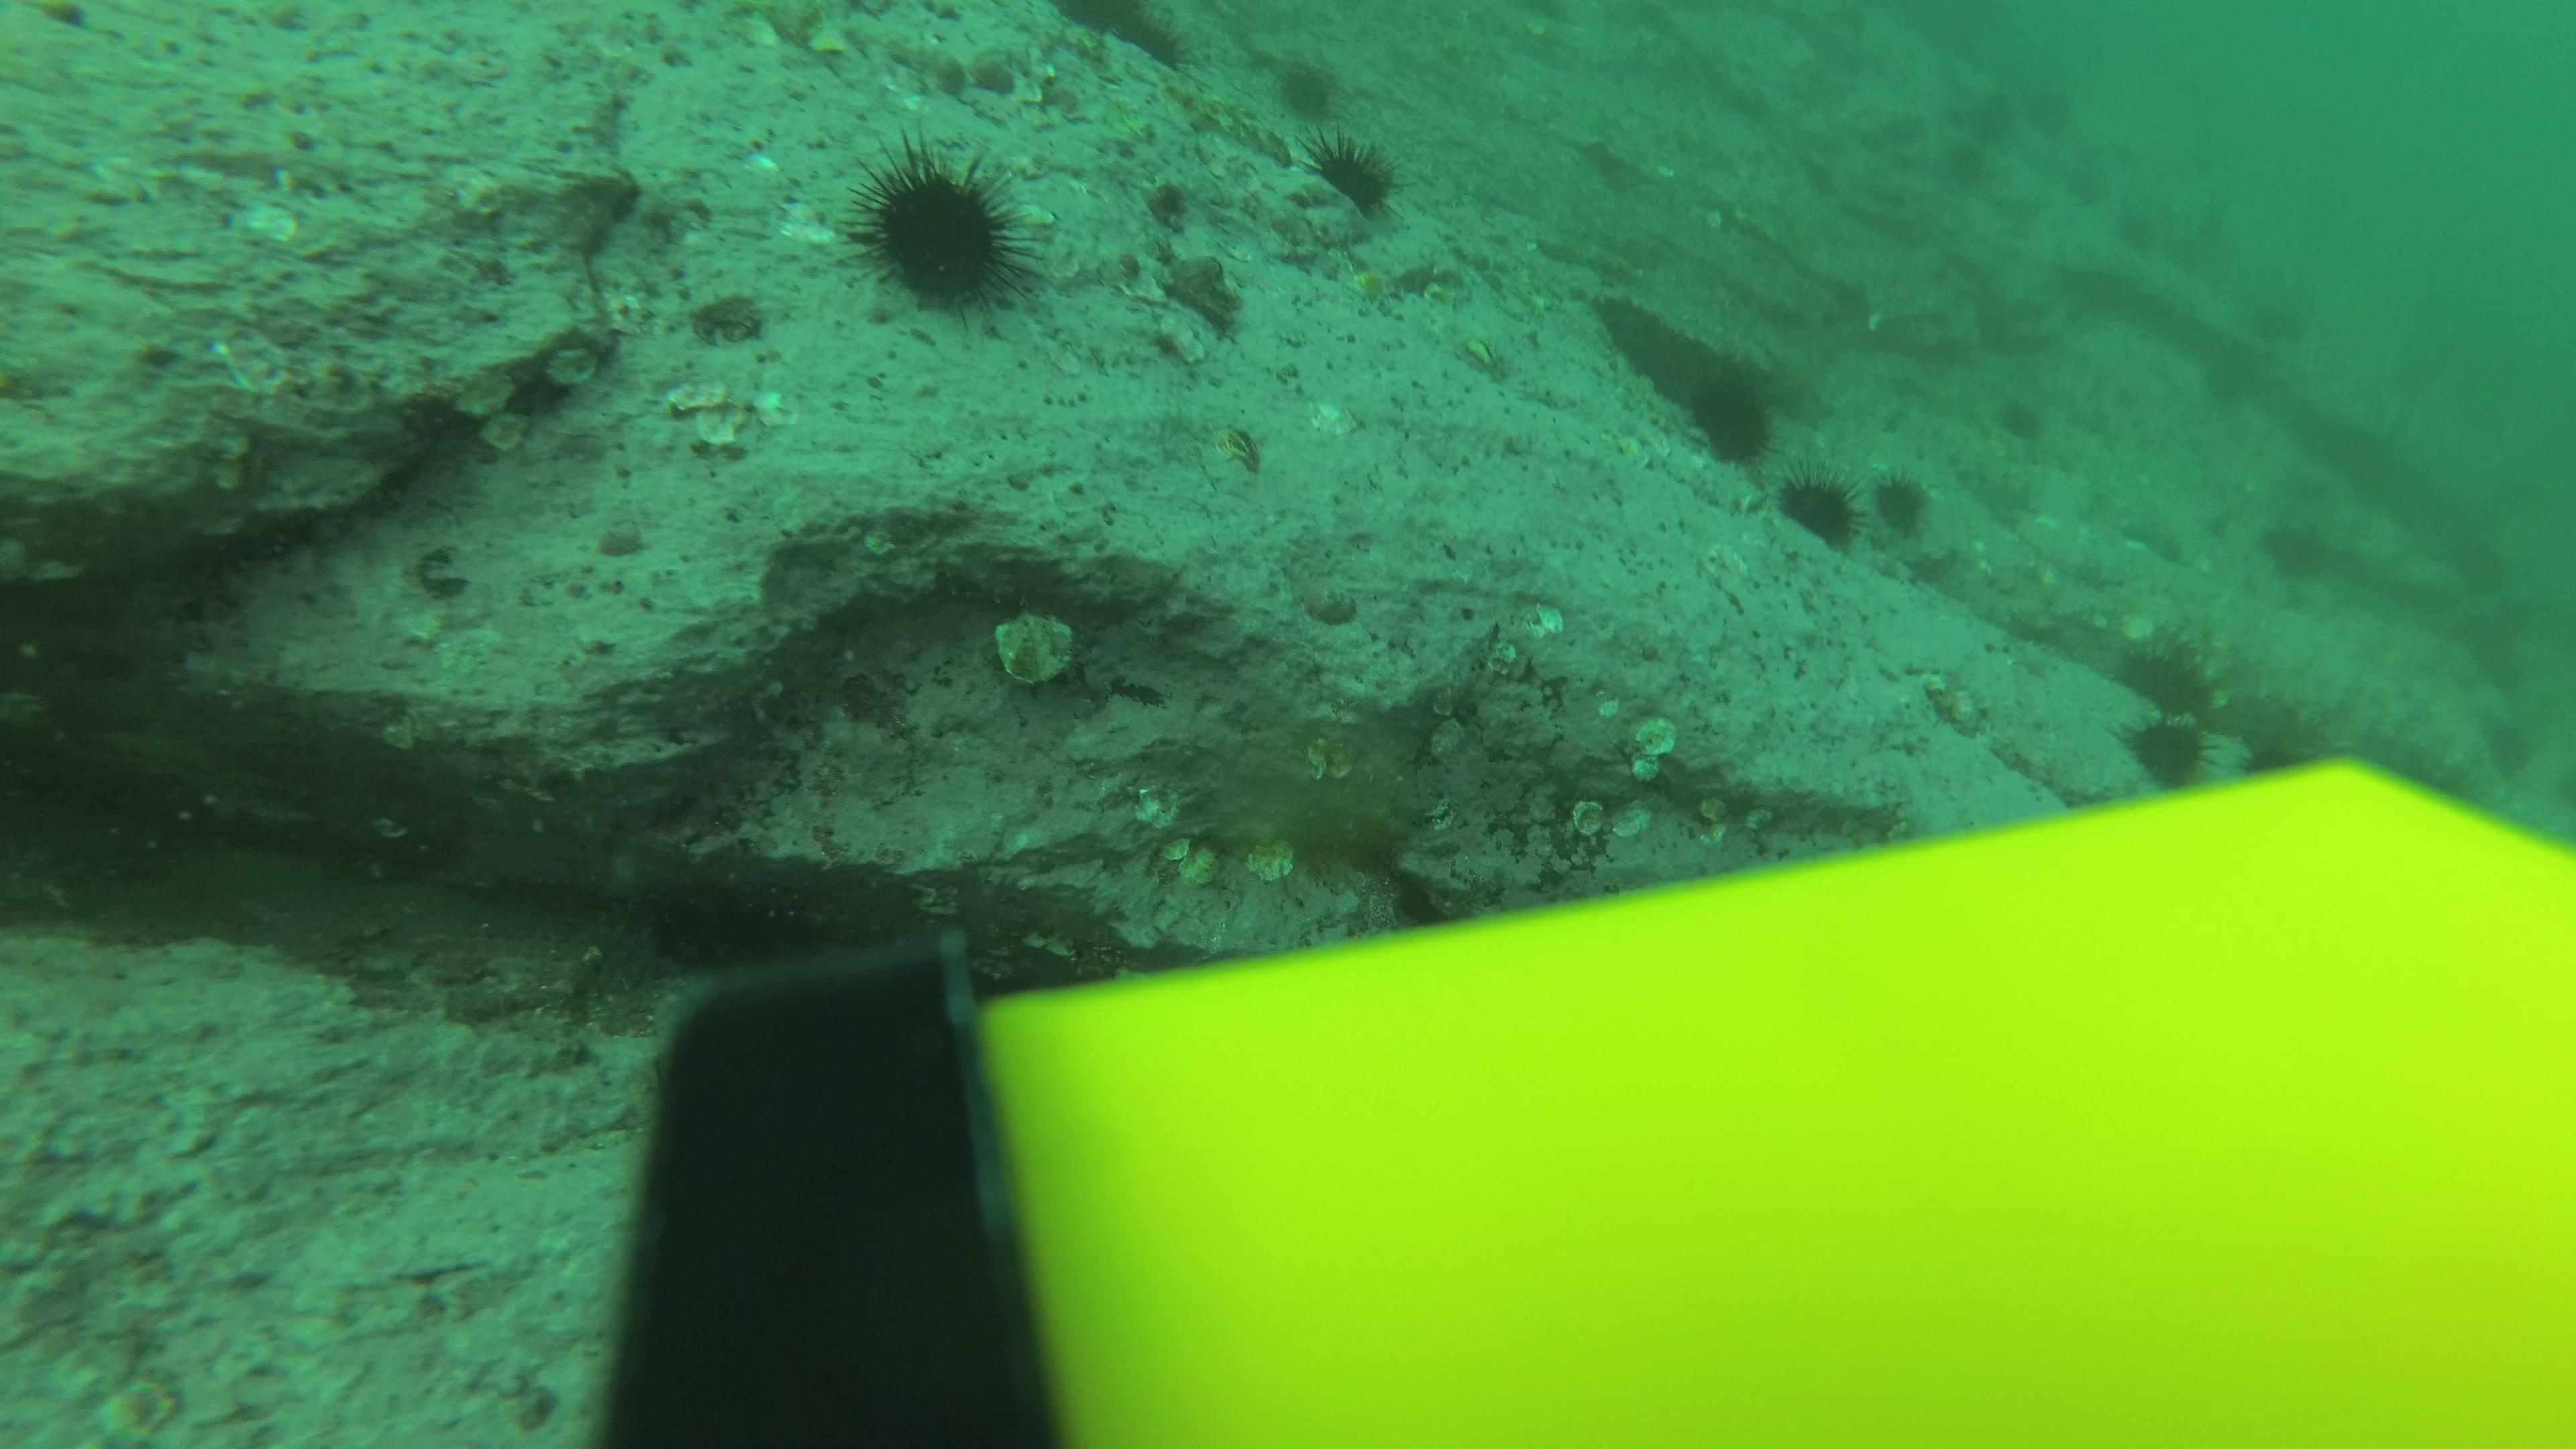echinus: (842, 136, 1040, 320), (1672, 356, 1785, 469), (2109, 626, 2226, 736), (1297, 129, 1405, 225), (2112, 706, 2220, 796), (1845, 467, 1939, 550), (1762, 467, 1854, 550), (2254, 510, 2342, 587), (1267, 50, 1350, 126), (2252, 295, 2321, 359), (2109, 207, 2171, 260), (2187, 361, 2243, 409), (1943, 142, 1999, 186), (2029, 97, 2084, 142), (1971, 94, 2026, 138), (2063, 170, 2112, 212), (2001, 402, 2049, 441)
